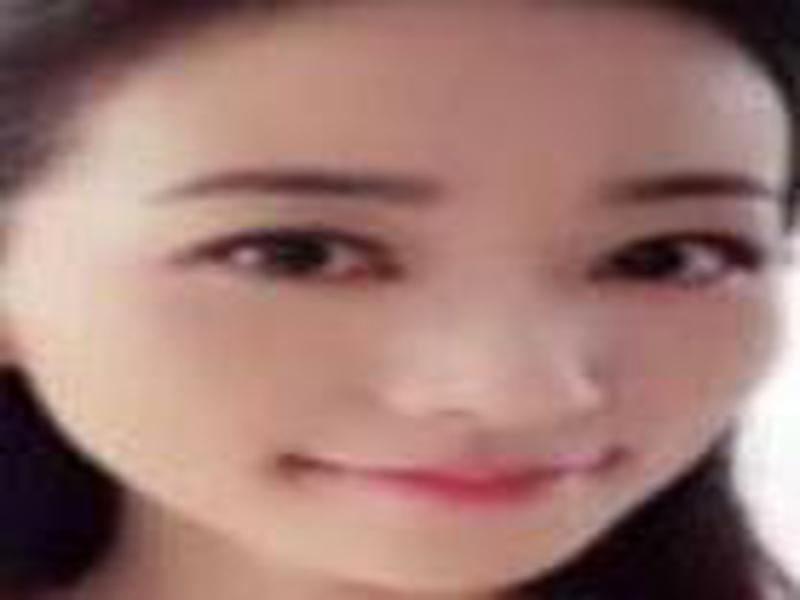without_mask: (68, 68, 785, 574)
